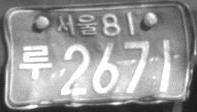1: (155, 38, 177, 93), (122, 10, 139, 36)
2: (59, 42, 91, 96)
6: (90, 40, 120, 96)
7: (122, 39, 152, 94)
8: (101, 12, 121, 37)
루: (18, 44, 53, 80)
서울_O: (56, 13, 98, 38)
